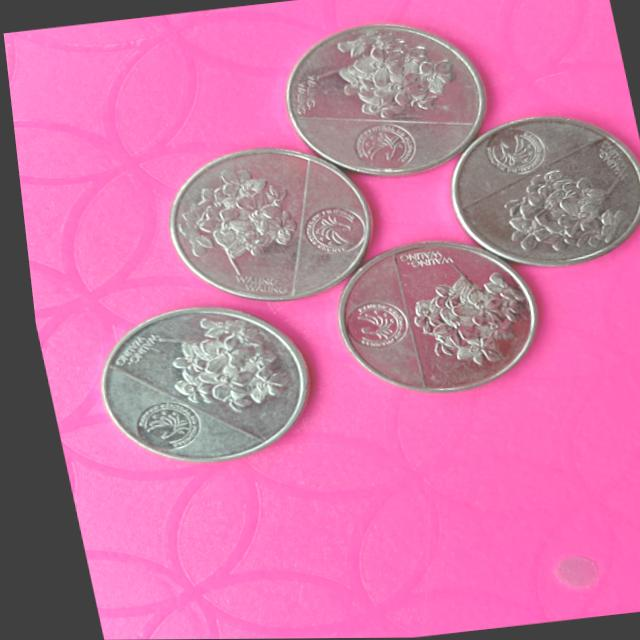1_New_Back: (293, 21, 464, 135), (139, 297, 290, 423), (167, 161, 298, 285), (394, 254, 525, 373), (478, 169, 635, 258)
